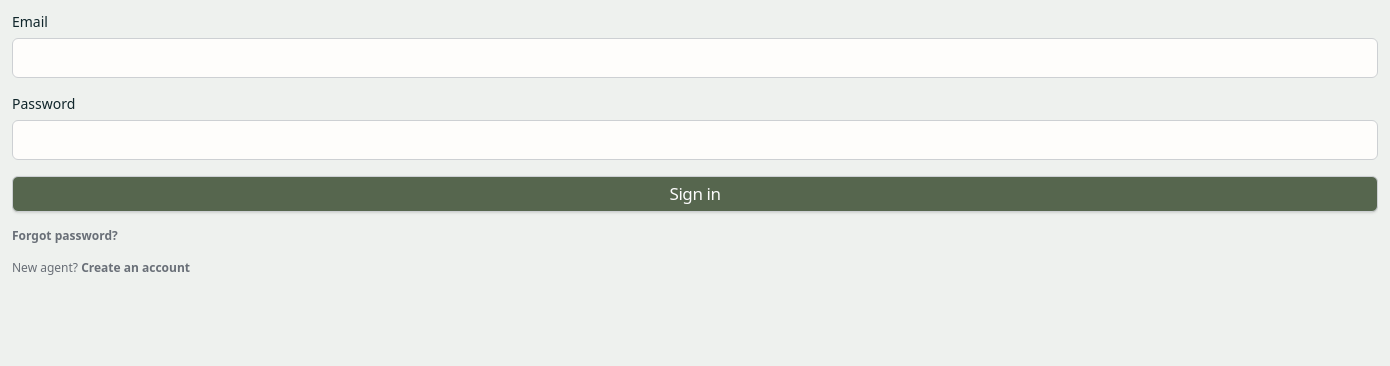
AgentLoginForm › explains when the Agent API is disabled
In the field labelled "Email": coordinates (695, 58) 12,38 -> 1378,78, type "agent@example.com"
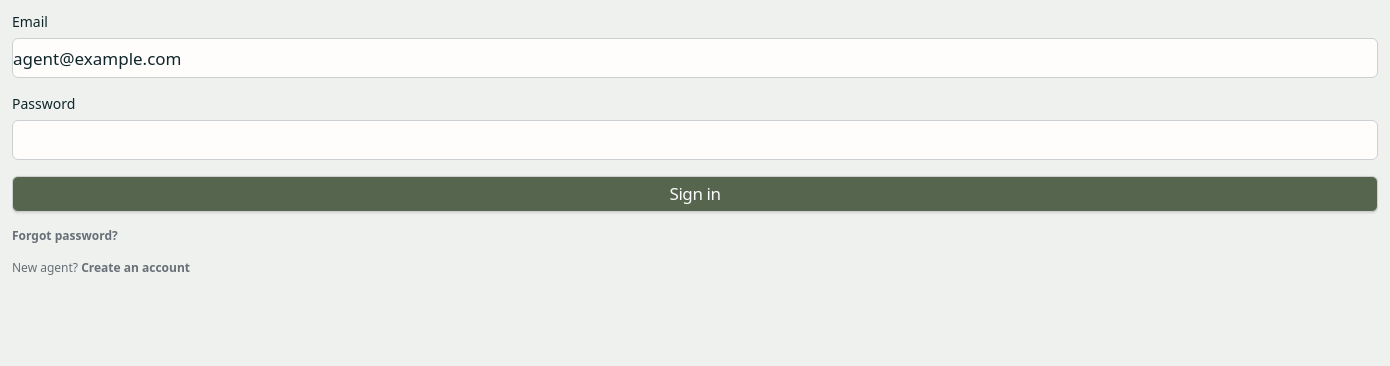
In the password field labelled "Password": coordinates (695, 140) 12,120 -> 1378,160, type "secret12"
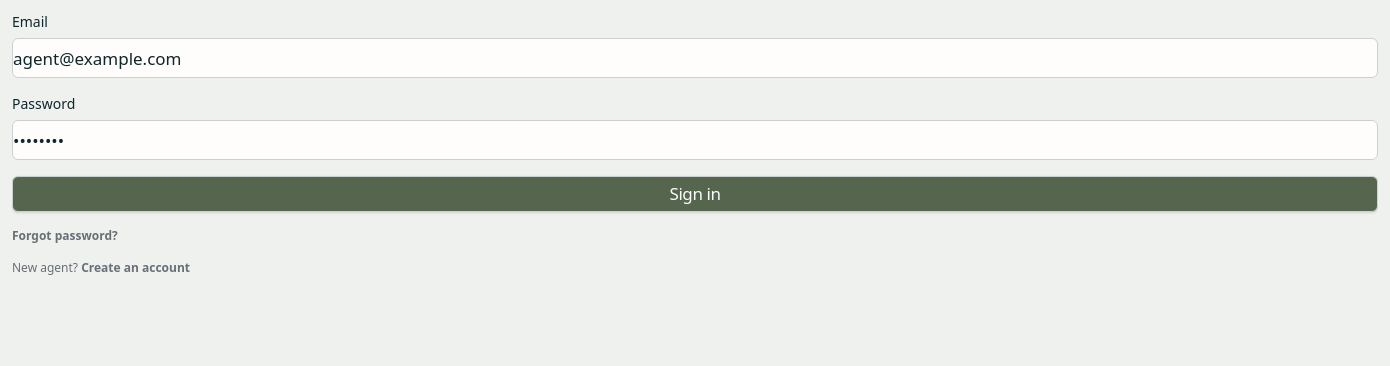
Click the button "Sign in": coordinates (695, 194) 12,176 -> 1378,212
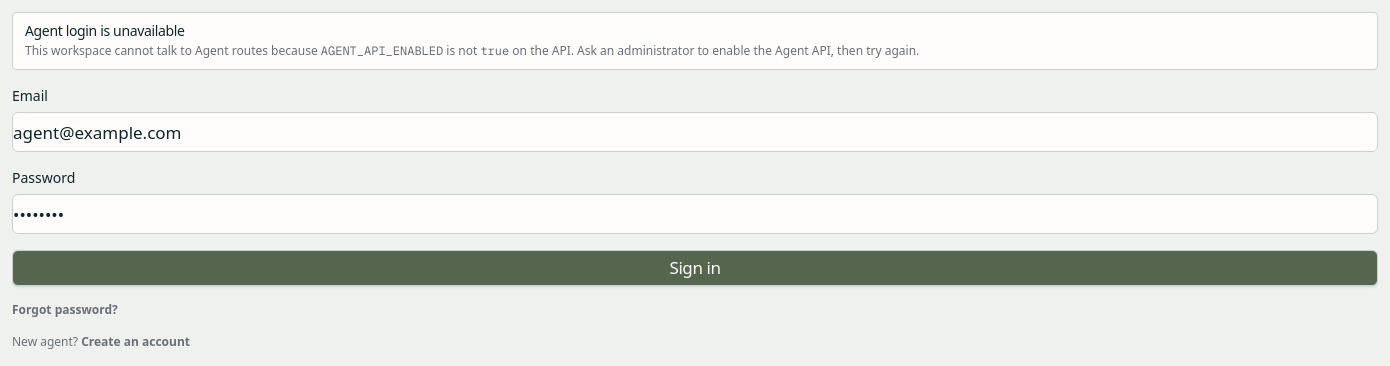
Expected: the text "AGENT_API_ENABLED" is shown, 321,43 -> 443,59
